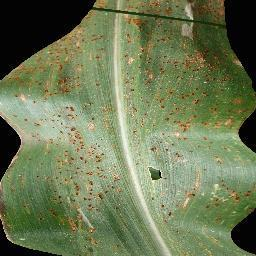Corn_Common_Rust: (41, 39, 123, 256), (176, 40, 256, 256), (124, 40, 176, 256), (2, 51, 40, 246), (78, 0, 228, 40), (55, 23, 77, 39)
